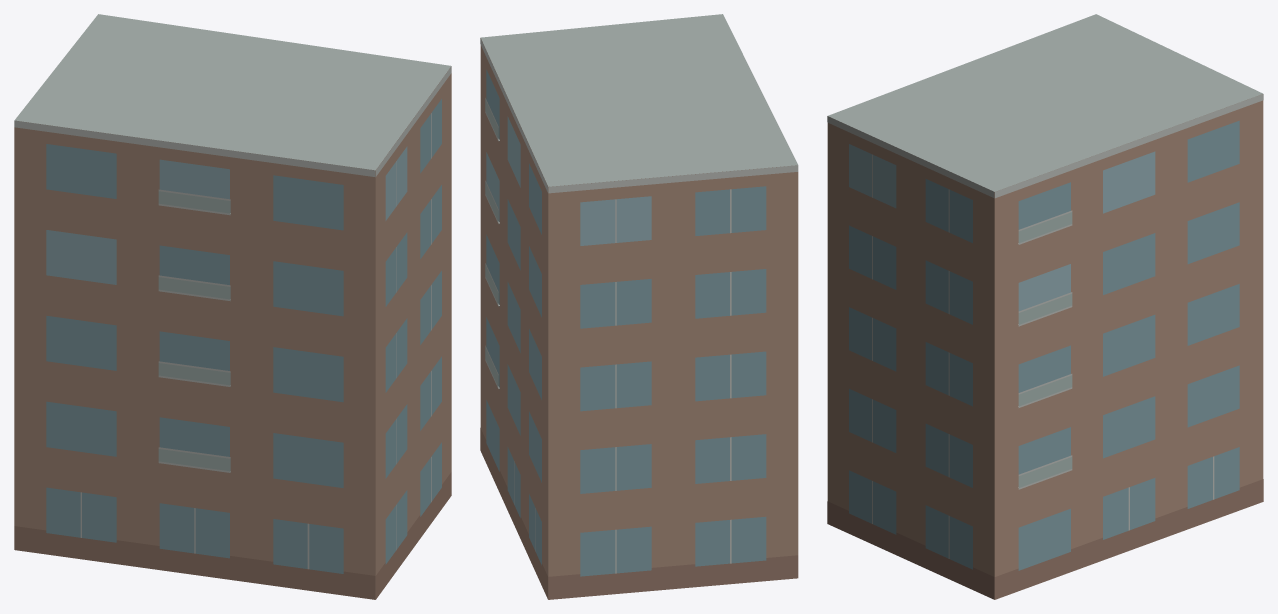
Rendered from survey-upis-32633558.glb.
3 renders of one model, left to right at view 1: azimuth 30°, elevation 25°; view 2: azimuth 150°, elevation 25°; view 3: azimuth 270°, elevation 25°, orthographic. The views are drawn at different scales.
Parts seen in each view (by area): view 1: survey-upis-32633558.tmp; view 2: survey-upis-32633558.tmp; view 3: survey-upis-32633558.tmp.
Part boxes in pixels (box(x1,y1,x2,y2)): survey-upis-32633558.tmp: box(14, 14, 451, 599); survey-upis-32633558.tmp: box(480, 14, 798, 599); survey-upis-32633558.tmp: box(827, 14, 1263, 599).
Size of the model in its own units: 14.27 by 15.25 by 14.78.
